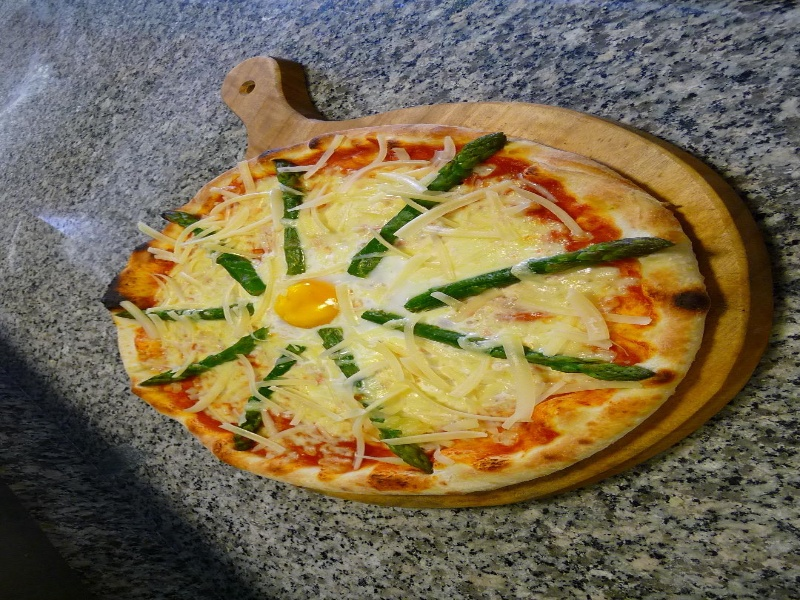oeuf: (261, 268, 361, 341)
